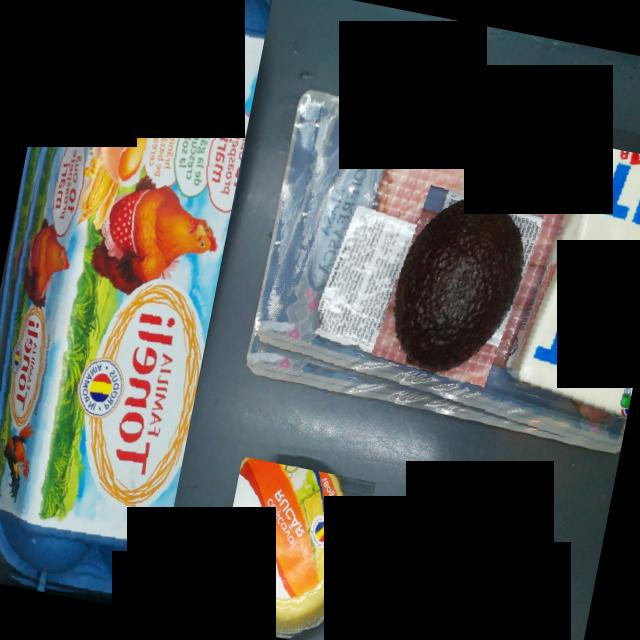avocado: (363, 202, 512, 400)
bacon: (245, 88, 640, 453)
butter: (496, 133, 640, 418)
cheese: (210, 456, 376, 640)
eggs: (0, 0, 274, 613)
